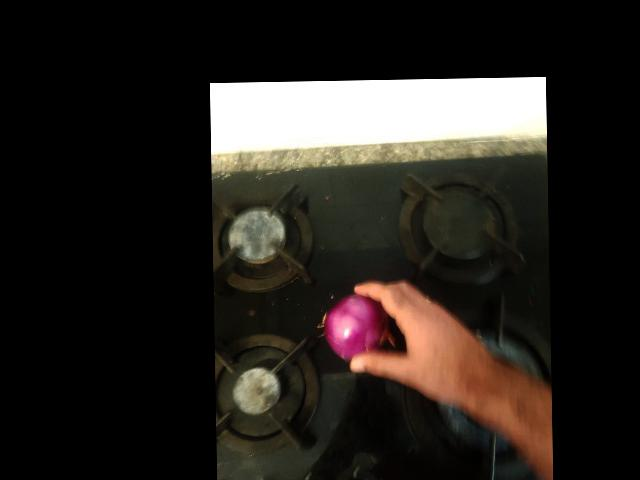onion: (265, 194, 337, 253)
